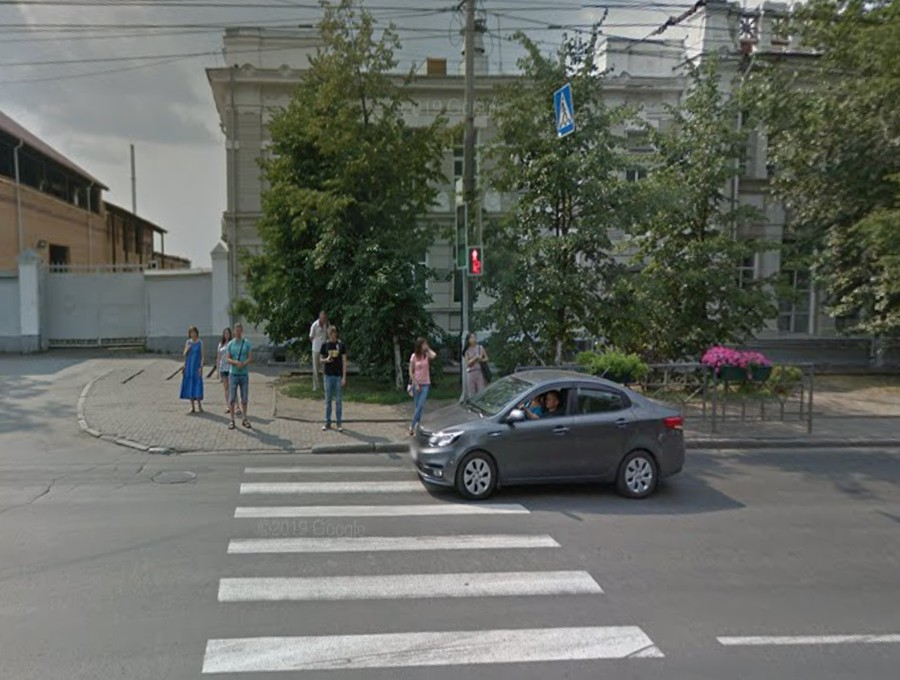Traffic Light-red: (463, 244, 488, 283)
